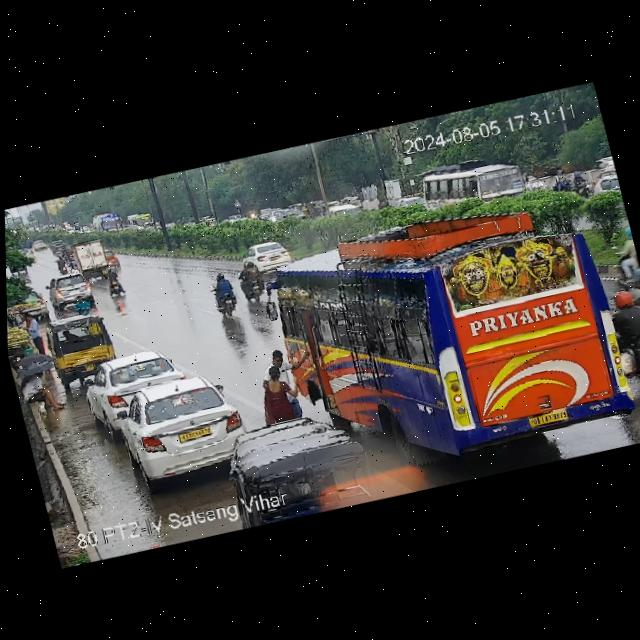bus: (259, 184, 638, 487), (408, 145, 534, 219)
car: (113, 367, 253, 486), (83, 345, 184, 424), (43, 310, 121, 383), (239, 236, 297, 276), (43, 267, 97, 307), (594, 154, 622, 198), (26, 288, 54, 319), (105, 247, 120, 267)
motorcycle: (610, 280, 640, 393), (545, 156, 593, 201), (205, 270, 242, 319), (237, 258, 273, 305), (610, 224, 640, 279), (102, 266, 130, 301), (56, 257, 68, 275)
person: (17, 362, 69, 419), (259, 362, 296, 420), (19, 308, 51, 351), (266, 346, 293, 372), (74, 293, 90, 316)
truck: (67, 238, 111, 283)
